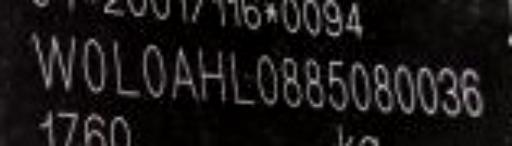letter: (29, 29, 81, 96), (107, 38, 139, 96), (195, 48, 227, 106), (456, 67, 488, 118), (140, 41, 168, 99), (170, 45, 198, 103), (82, 36, 110, 93), (368, 61, 398, 112), (434, 64, 462, 115), (228, 51, 254, 105), (254, 51, 280, 105), (326, 58, 352, 112), (348, 58, 374, 112), (391, 61, 417, 115), (414, 61, 440, 115), (303, 54, 325, 111), (280, 55, 302, 109)
